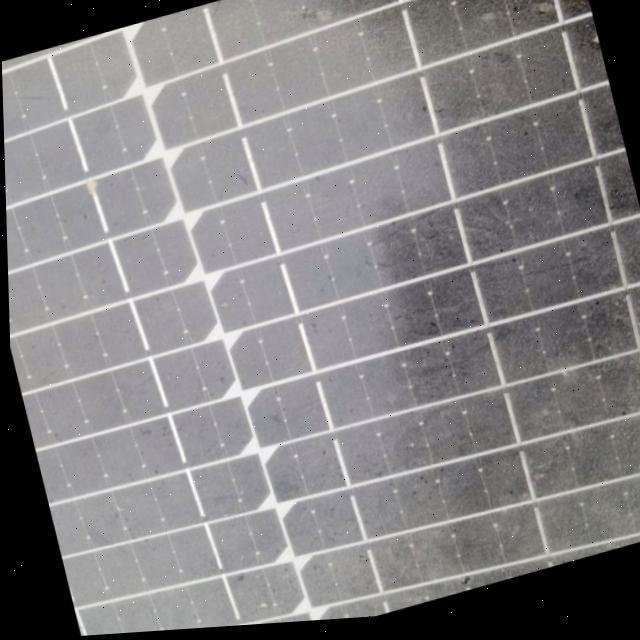Anomaly Solar Panel: (0, 0, 640, 640)
Surface Contaminant: (2, 0, 640, 635)
